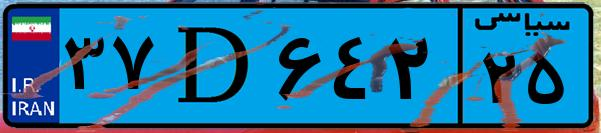2: (385, 28, 445, 110), (475, 38, 525, 113)
3: (57, 26, 110, 100)
4: (330, 28, 385, 110)
5: (525, 38, 570, 115)
6: (270, 28, 330, 110)
7: (110, 28, 158, 98)
D: (158, 12, 270, 120)
